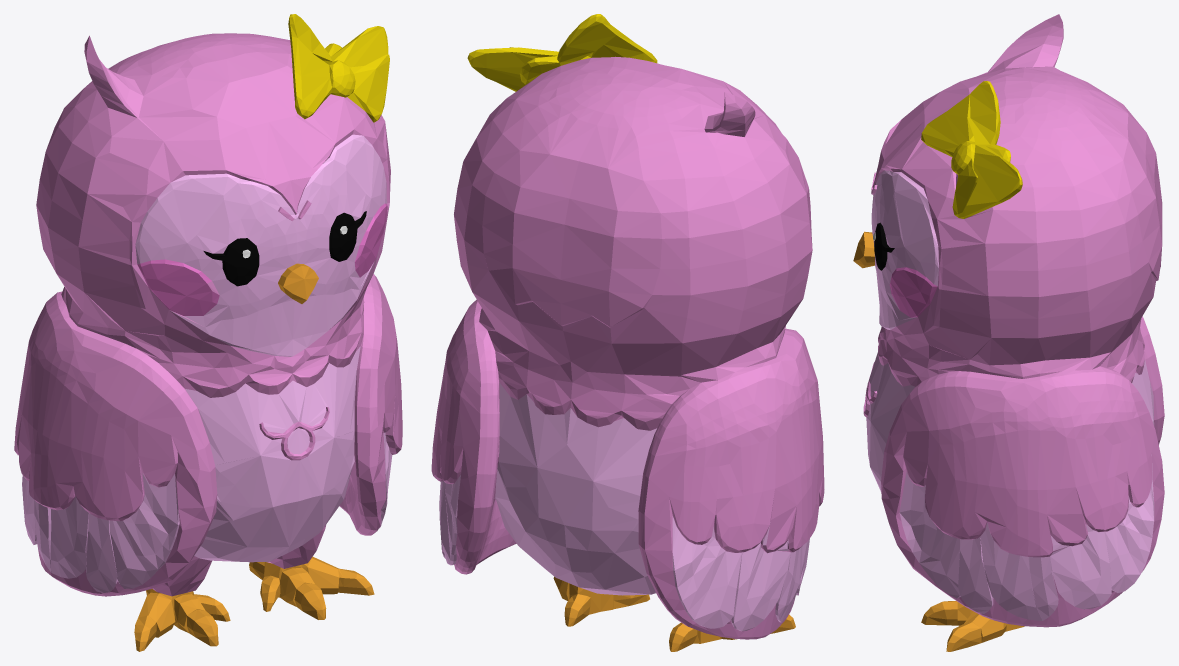
File: OWL.fbx
3 views of the same model, side by side, from view 1: azimuth 30°, elevation 25°; view 2: azimuth 150°, elevation 25°; view 3: azimuth 270°, elevation 25° (orthographic). The views are drawn at different scales.
Visible parts, largest first — view 1: OWL; view 2: OWL; view 3: OWL.
Part boxes in pixels (<box>): OWL: <box>14,14,402,651</box>; OWL: <box>431,14,824,651</box>; OWL: <box>853,14,1164,651</box>.
Size of the model in its own units: 119 by 190 by 98.61.
